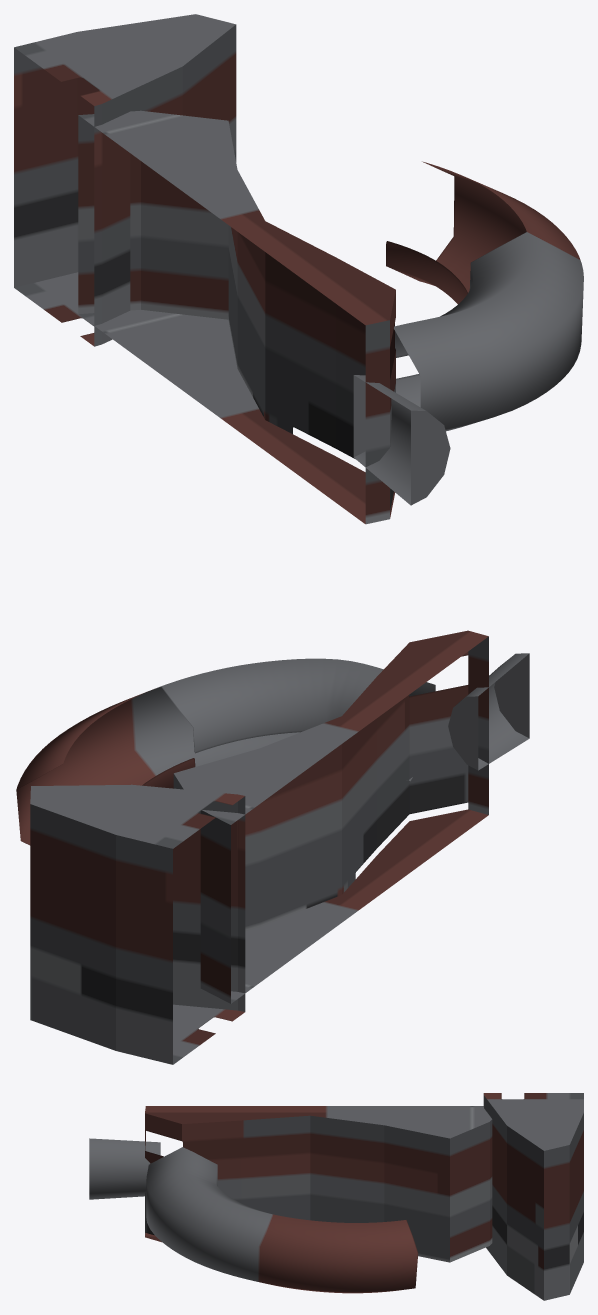
The model's file is section-0.obj.
3 views of the same model, one above another, from view 1: azimuth 30°, elevation 25°; view 2: azimuth 150°, elevation 25°; view 3: azimuth 270°, elevation 25° (orthographic). The views are drawn at different scales.
Size of the model in its own units: 0.8964 by 0.6264 by 2.16.
